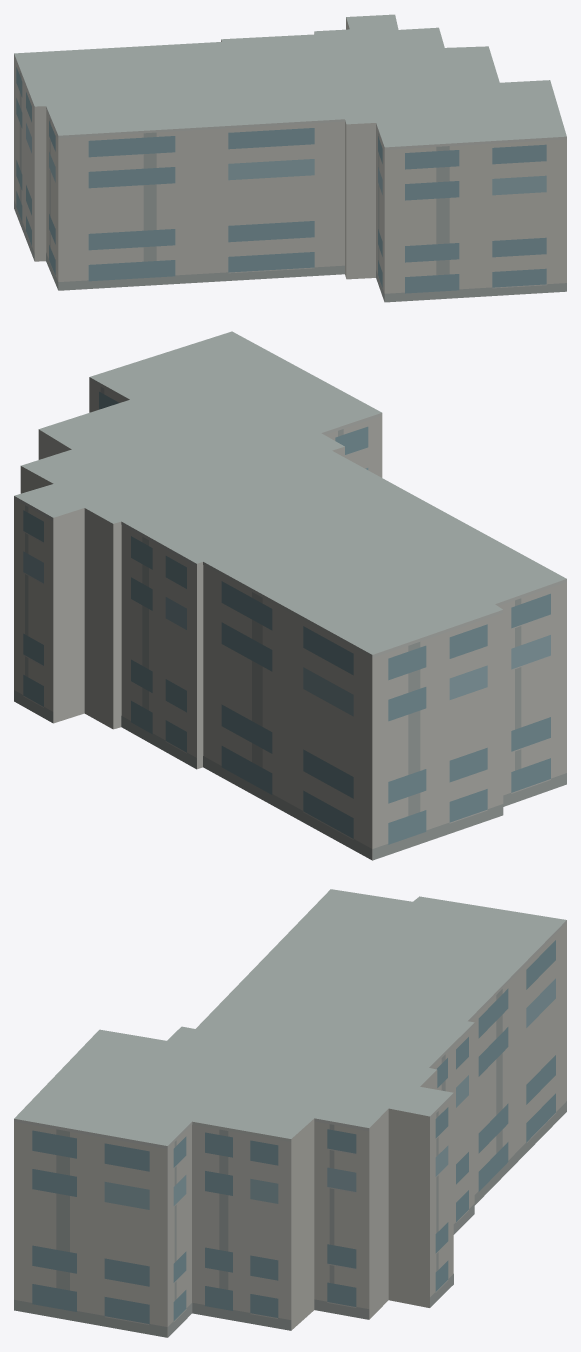
Rendered from survey-upis-32490720.glb.
The picture shows the model from 3 angles, top to bottom: view 1: azimuth 30°, elevation 25°; view 2: azimuth 150°, elevation 25°; view 3: azimuth 270°, elevation 25°; orthographic projection. The views are drawn at different scales.
Parts seen in each view (by area): view 1: survey-upis-32490720.tmp; view 2: survey-upis-32490720.tmp; view 3: survey-upis-32490720.tmp.
Boxes of the visible parts, x1,y1,x2,y2 form: survey-upis-32490720.tmp: (14, 14, 566, 302); survey-upis-32490720.tmp: (14, 331, 566, 860); survey-upis-32490720.tmp: (14, 889, 566, 1337).
Bounding box in the file's own units: 44.29 × 15.4 × 40.26.
